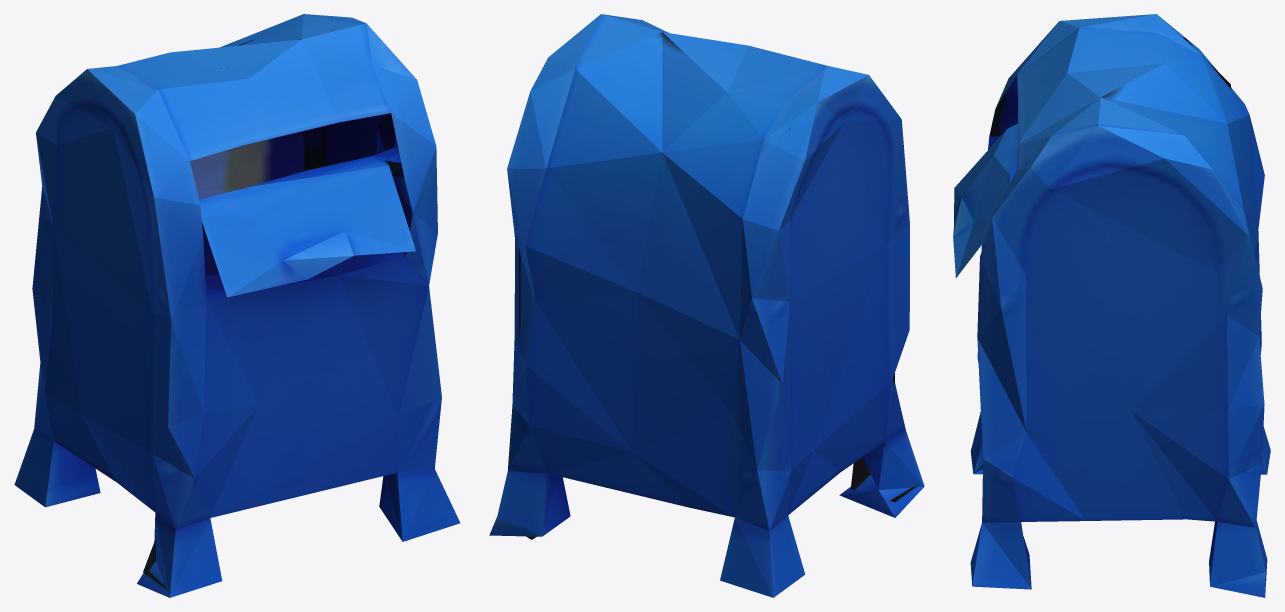
The model's file is mailbox.glb.
The picture shows the model from 3 angles, left to right: view 1: azimuth 30°, elevation 25°; view 2: azimuth 150°, elevation 25°; view 3: azimuth 270°, elevation 25°; orthographic projection. The views are drawn at different scales.
Parts seen in each view (by area): view 1: geometry_0; view 2: geometry_0; view 3: geometry_0.
Part boxes in pixels (box(x1,y1,x2,y2)): geometry_0: box(14, 14, 460, 597); geometry_0: box(489, 14, 924, 597); geometry_0: box(953, 14, 1270, 597).
Bounding box in the file's own units: 0.6566 × 1.01 × 0.6333.
1 material, 1 textured.
